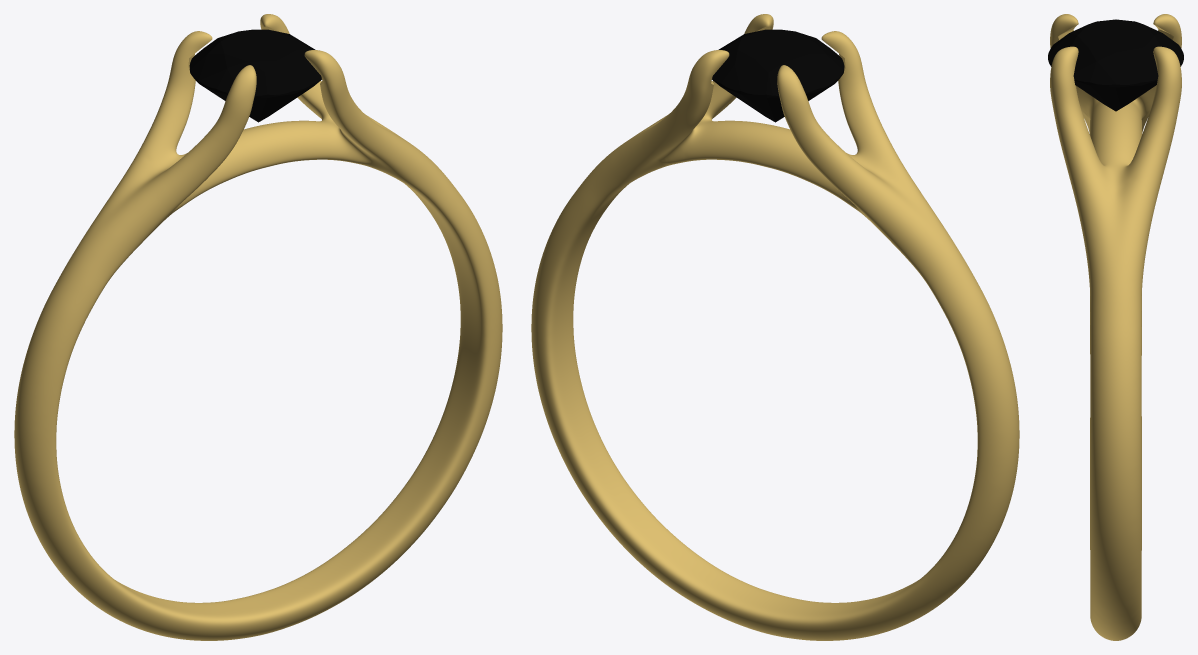
Rendered from 1793094908857-black_diamond_ring.glb.
3 views of the same model, side by side, from view 1: azimuth 30°, elevation 25°; view 2: azimuth 150°, elevation 25°; view 3: azimuth 270°, elevation 25° (orthographic).
Visible parts, largest first — view 1: COLOR=\u007f\u007f\u007f MATERIAL=\u007f\u007f\u007f \u007f\ (×6), Object_2_Material_3_0; view 2: COLOR=\u007f\u007f\u007f MATERIAL=\u007f\u007f\u007f \u007f\ (×6), Object_2_Material_3_0; view 3: COLOR=\u007f\u007f\u007f MATERIAL=\u007f\u007f\u007f \u007f\ (×6), Object_2_Material_3_0.
Boxes of the visible parts, x1,y1,x2,y2 form: COLOR=\u007f\u007f\u007f MATERIAL=\u007f\u007f\u007f \u007f\ (×6): [14, 14, 502, 640]; Object_2_Material_3_0: [189, 29, 321, 122]; COLOR=\u007f\u007f\u007f MATERIAL=\u007f\u007f\u007f \u007f\ (×6): [531, 14, 1019, 640]; Object_2_Material_3_0: [712, 29, 844, 122]; COLOR=\u007f\u007f\u007f MATERIAL=\u007f\u007f\u007f \u007f\ (×6): [1050, 14, 1181, 640]; Object_2_Material_3_0: [1048, 19, 1183, 111].
Bounding box in the file's own units: 0.0202 × 0.0237 × 0.005.
2 materials, 1 textured.
